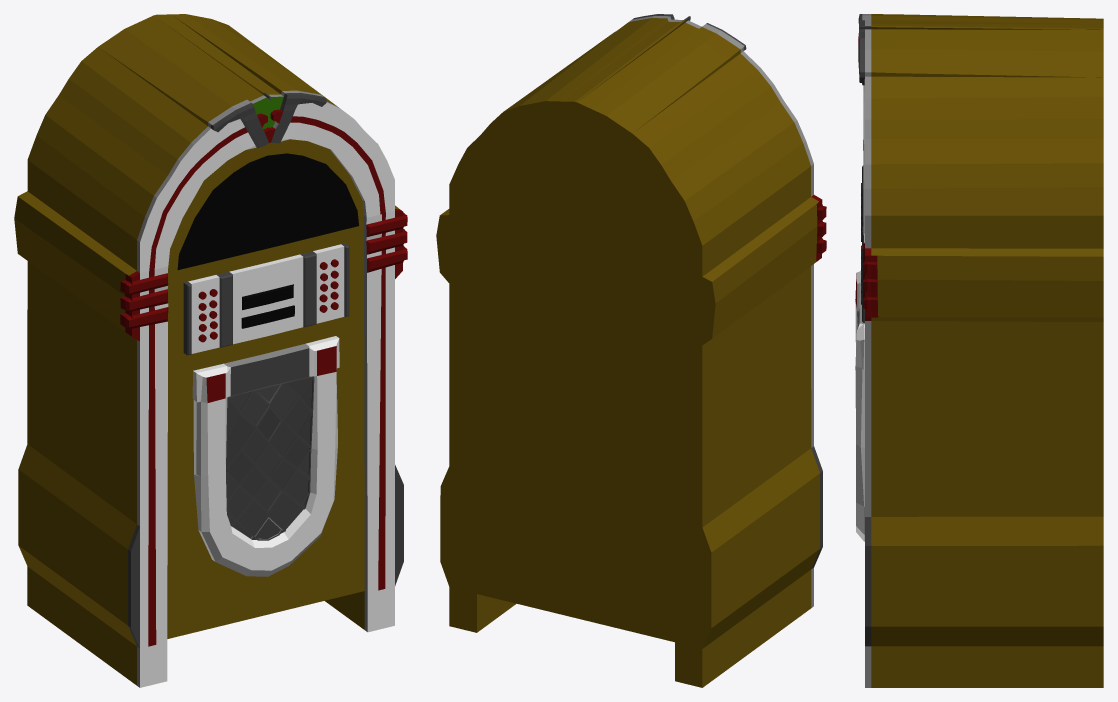
Rendered from jukebox lowpoly fbx.fbx.
3 renders of one model, left to right at view 1: azimuth 30°, elevation 25°; view 2: azimuth 150°, elevation 25°; view 3: azimuth 270°, elevation 25°, orthographic. The views are drawn at different scales.
Visible parts, largest first — view 1: pCube2; view 2: pCube2; view 3: pCube2.
Part boxes in pixels (x1=…): pCube2: x1=14, y1=14, x2=407, y2=687; pCube2: x1=436, y1=14, x2=826, y2=687; pCube2: x1=855, y1=14, x2=1103, y2=687.
Bounding box in the file's own units: 3.01 × 5.7 × 2.15.
